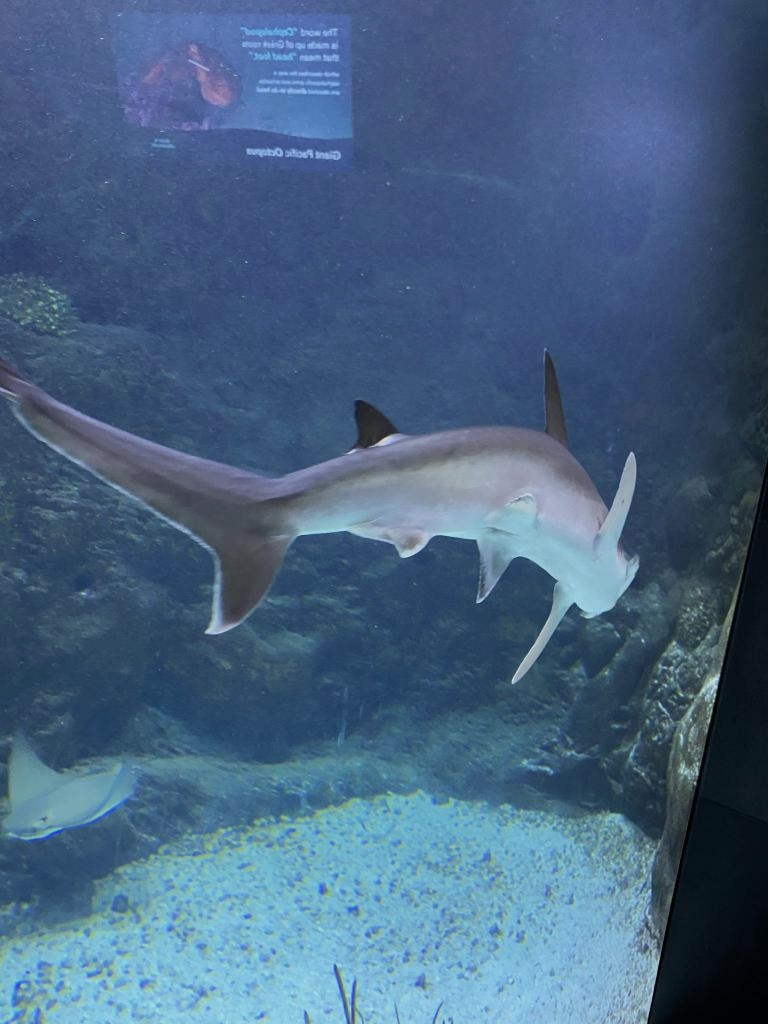shark: (2, 346, 642, 686)
stingray: (0, 730, 134, 842)
